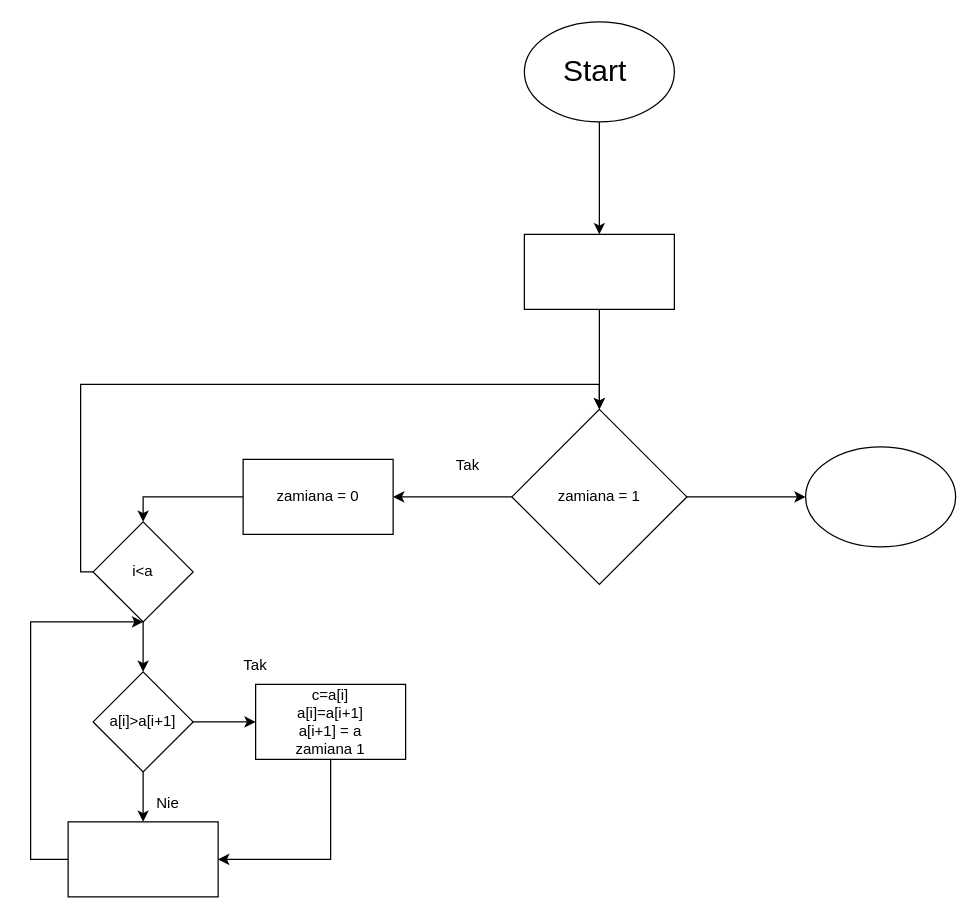
The diagram is 978 pixels wide and 919 high, and some of its shapes have lost their labels. Each missing label, with the centre of its shape:
i= i+1: point 142,859
podaj a i = 0 zamiana = 1: point 598,271
Stop: point 880,496
